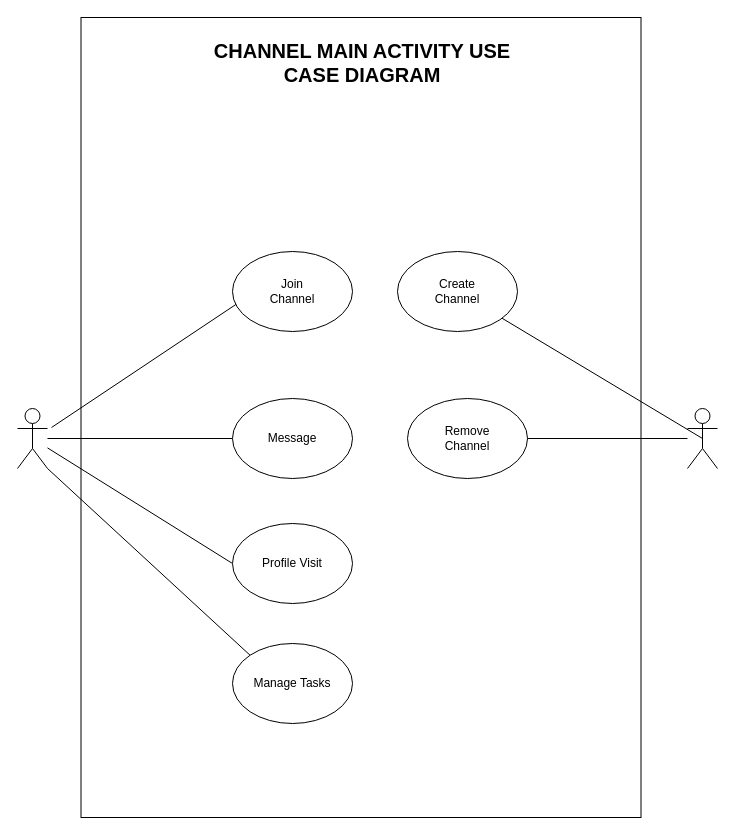
The diagram is 750 pixels wide and 835 high, and some of its shapes have lost their labels. Each missing label, with the centre of its shape:
User: (x=32, y=438)
Workspace Owner: (x=702, y=438)
